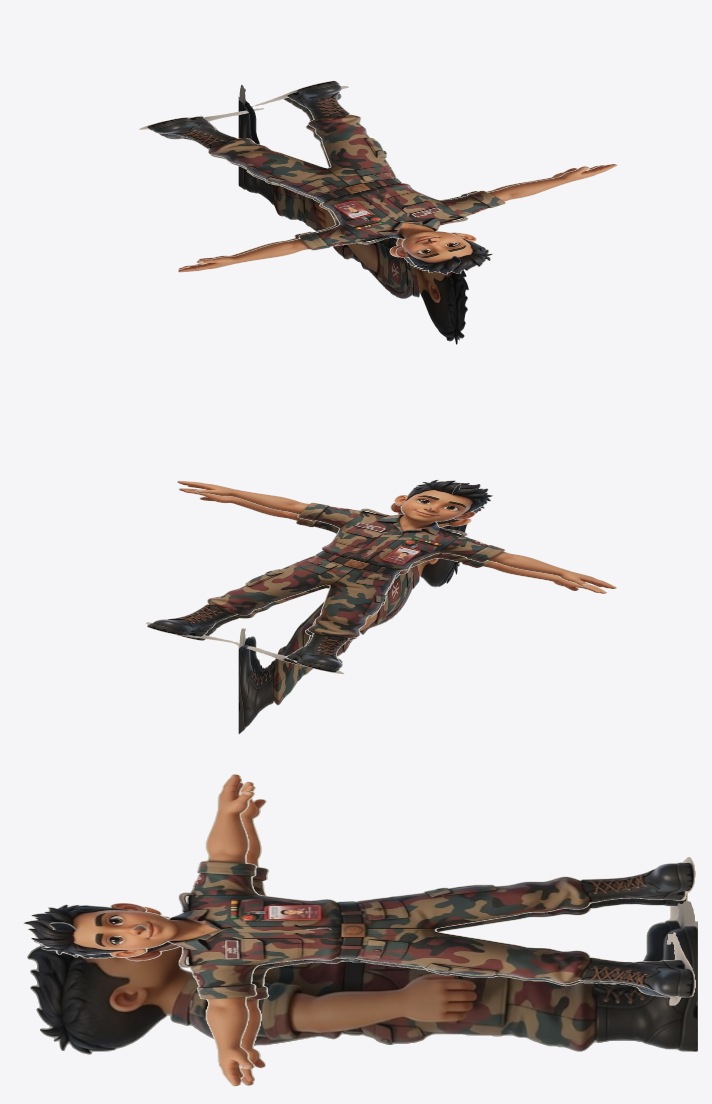
Rendered from bgb-rafi-v3.glb.
3 renders of one model, top to bottom at view 1: azimuth 30°, elevation 25°; view 2: azimuth 150°, elevation 25°; view 3: azimuth 270°, elevation 25°, orthographic. The views are drawn at different scales.
Parts seen in each view (by area): view 1: RafiFront, RafiSide, RafiBack; view 2: RafiFront, RafiSide, RafiBack; view 3: RafiFront, RafiSide, RafiBack.
Part boxes in pixels (box(x1,y1,x2,y2)): RafiFront: box(139, 80, 617, 274); RafiSide: box(238, 85, 468, 344); RafiBack: box(159, 86, 605, 270); RafiFront: box(147, 479, 616, 674); RafiSide: box(238, 483, 467, 734); RafiBack: box(146, 488, 606, 666); RafiFront: box(23, 774, 695, 1086); RafiSide: box(27, 901, 697, 1054); RafiBack: box(73, 781, 687, 1085).
Size of the model in its own units: 2.1 by 0.796 by 1.9.
3 materials, 3 textured.
